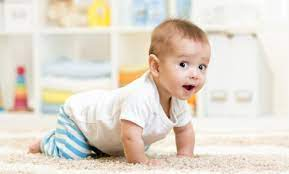child: (31, 17, 211, 161)
